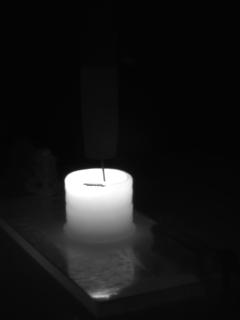tip_wire_left: (85, 155, 106, 185)
tip_wire_right: (103, 154, 118, 185)
